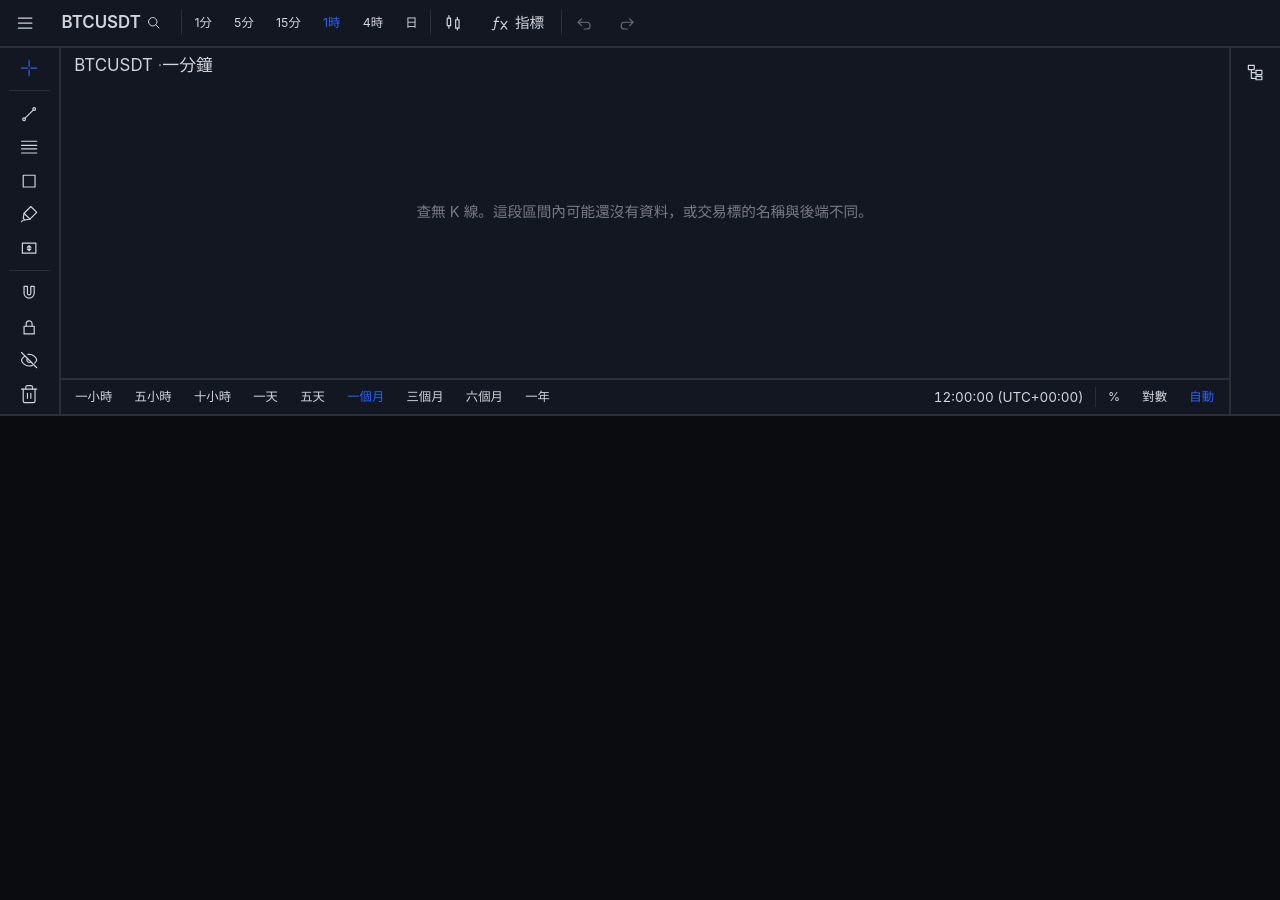
Test case: KCandleChartPanel › 換交易標的就重新取：看的長度不變，結束在現在
This screenshot has width=1280, height=900.
What coordinates should you click on to do the following:
click the button with test id "symbol-search-button"
I would click on:
 (112, 23)
Its box is [47, 2, 177, 43].
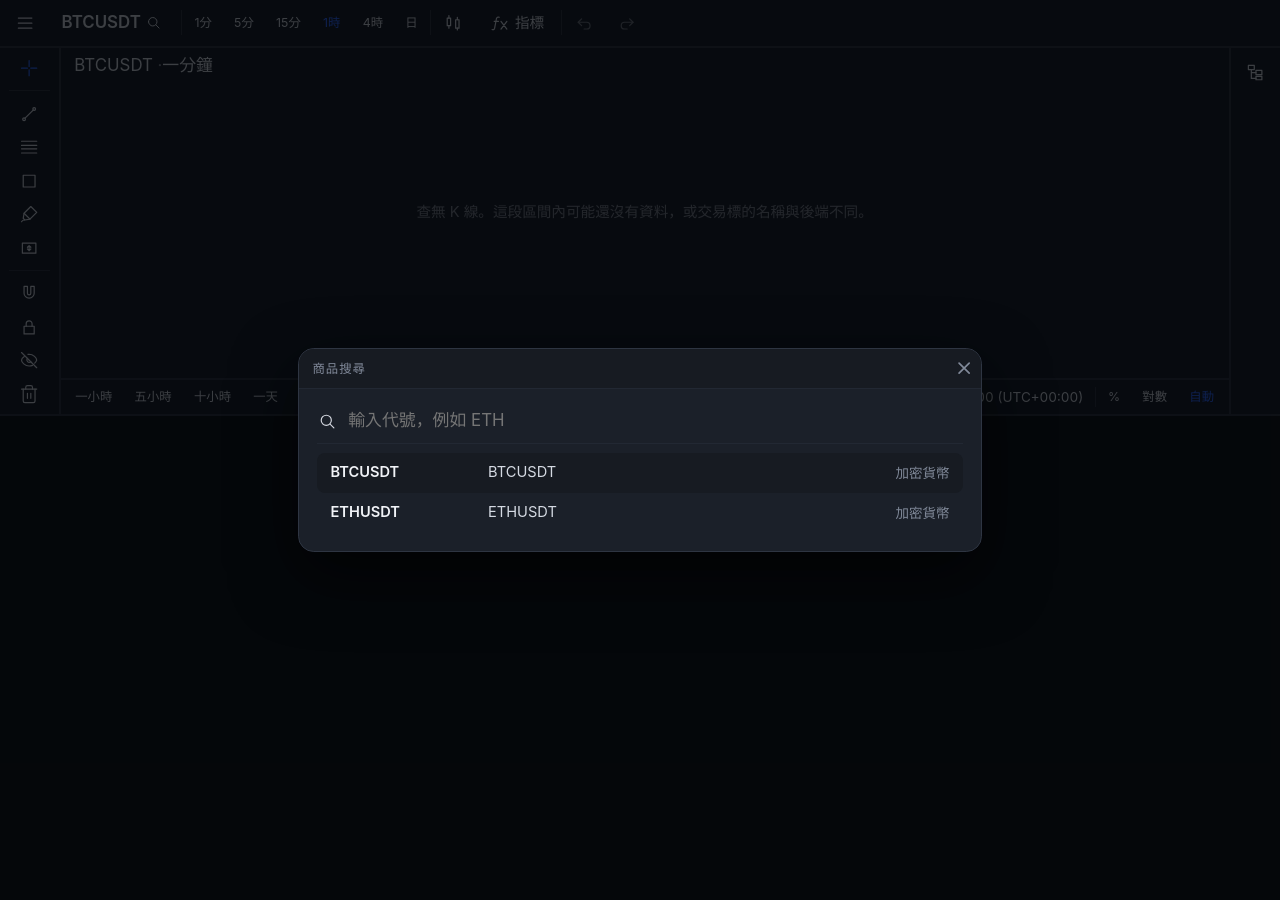
What coordinates should you click on to do the following:
click the button with test id "symbol-search-option" showing "ETHUSDT ETHUSDT 加密貨幣"
I would click on:
 (365, 512)
Its box is [317, 493, 963, 533].
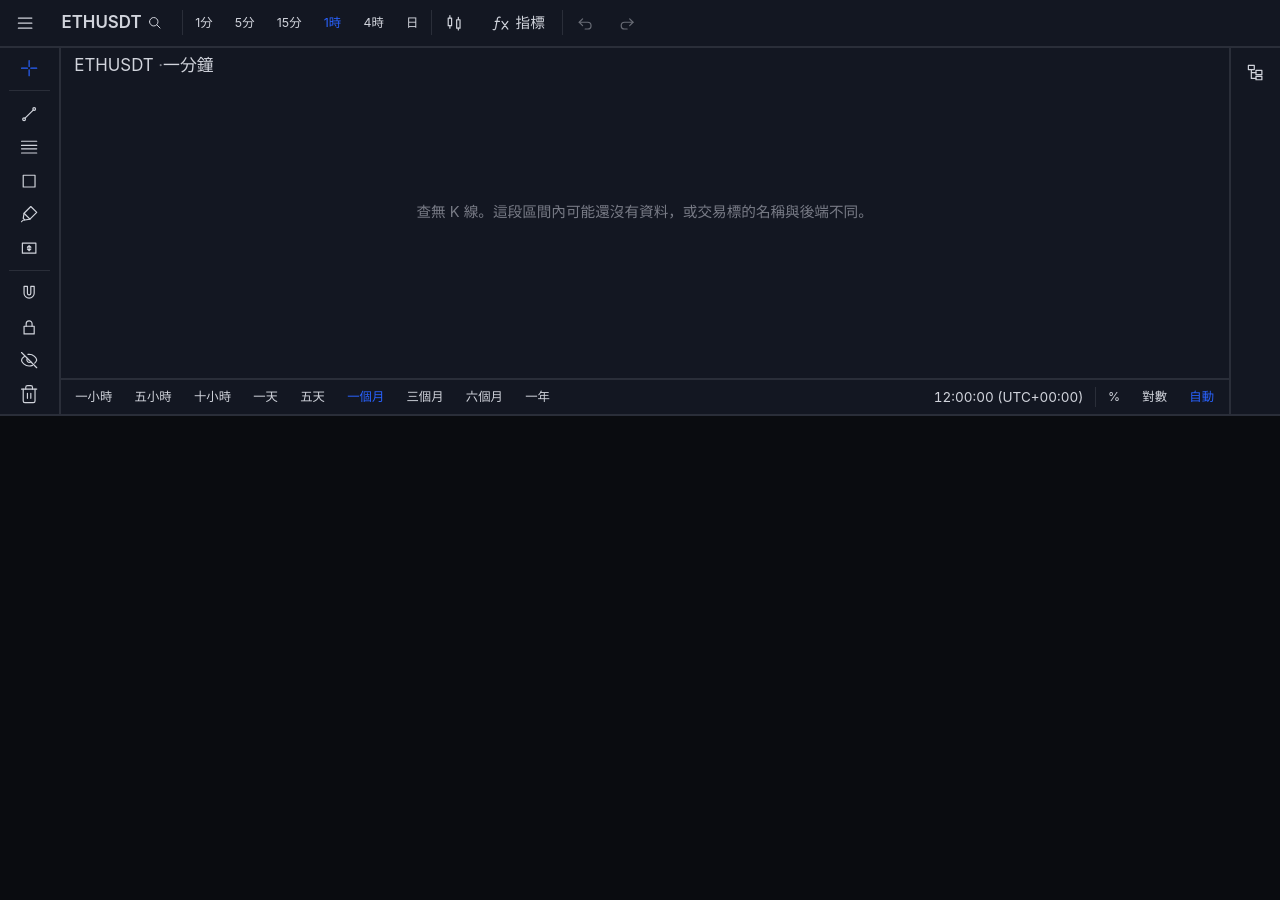
Now the text "ETHUSDT" is shown, box [62, 12, 142, 33]
